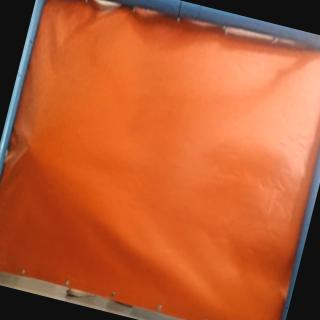Hit-hRxx: (21, 138, 39, 160)
